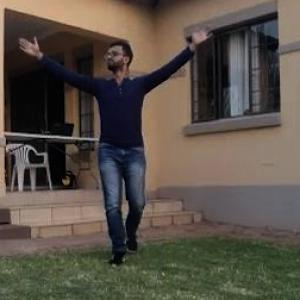takeoff: (13, 14, 232, 254)
